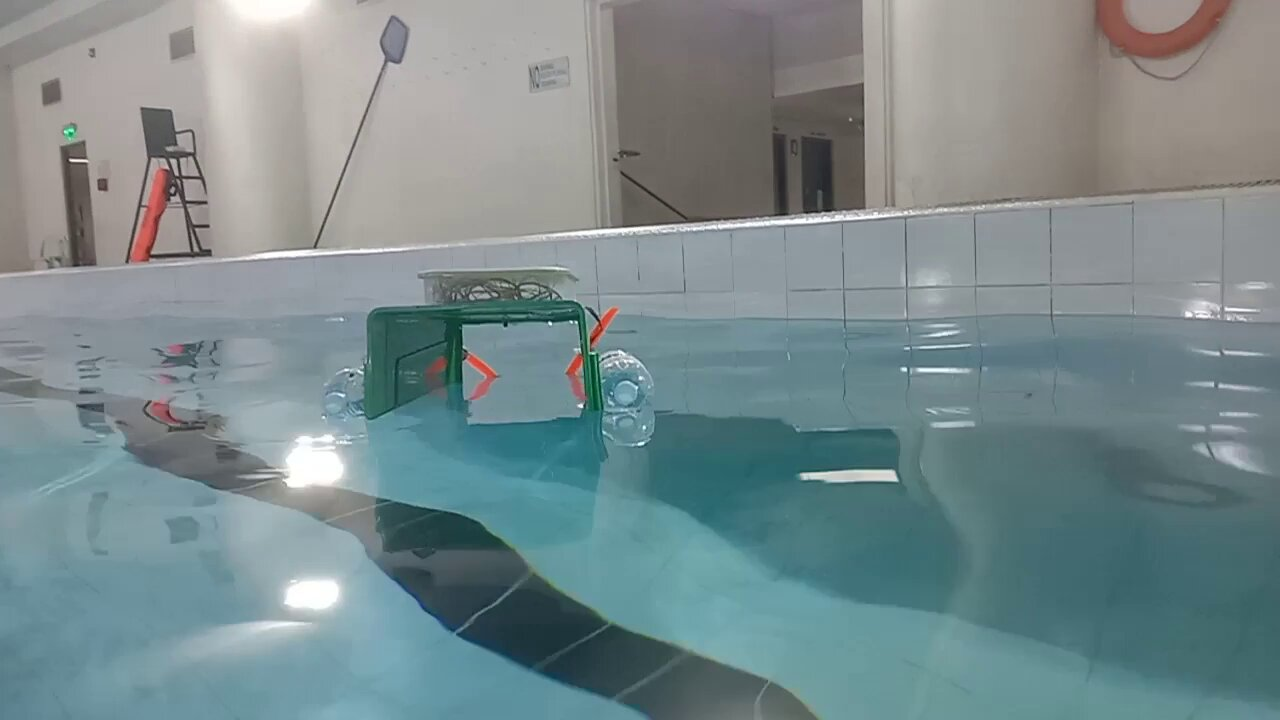drone: (320, 264, 658, 430)
